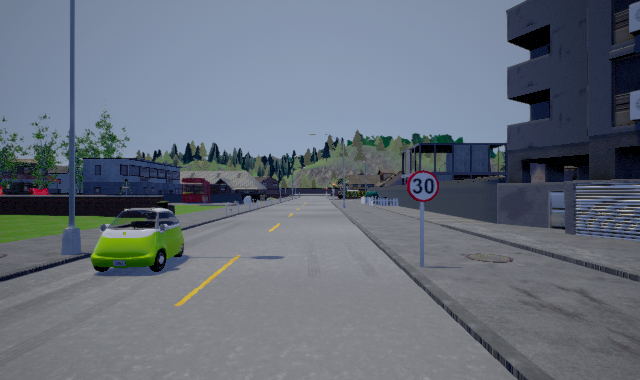traffic_sign: (407, 170, 439, 202)
vehicle: (91, 208, 184, 272)
